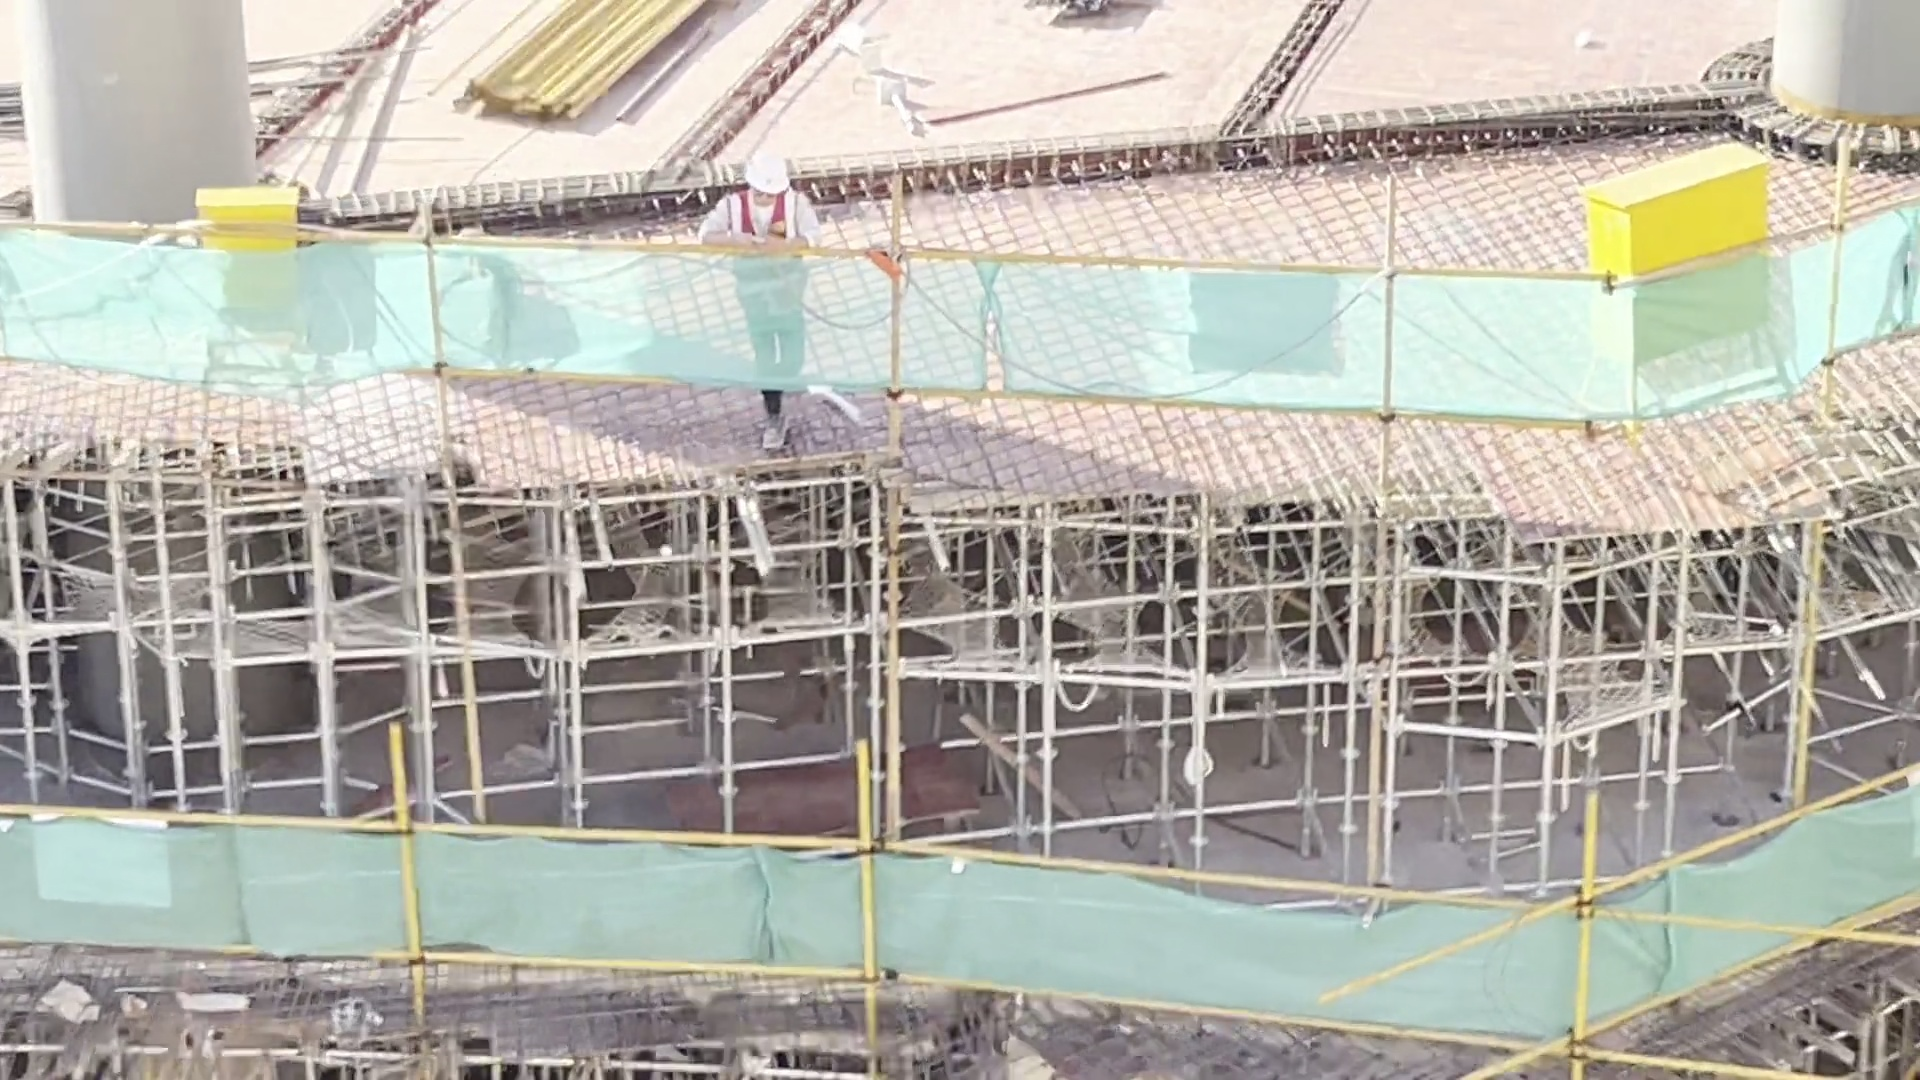ebox: (1573, 149, 1789, 349), (177, 176, 321, 356)
helmet: (748, 146, 796, 207)
person: (689, 142, 841, 458)
vest: (730, 190, 808, 293)
